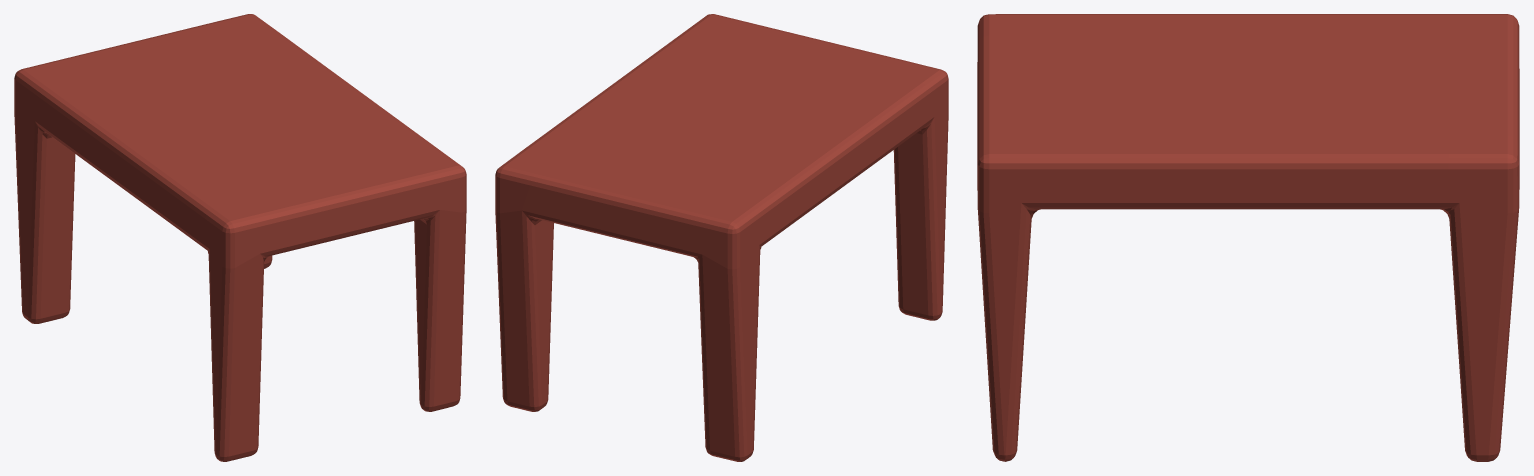
The model's file is CofeTable.fbx.
The picture shows the model from 3 angles, left to right: view 1: azimuth 30°, elevation 25°; view 2: azimuth 150°, elevation 25°; view 3: azimuth 270°, elevation 25°; orthographic projection. The views are drawn at different scales.
Visible parts, largest first — view 1: Cube.007; view 2: Cube.007; view 3: Cube.007.
Part boxes in pixels (box(x1,y1,x2,y2)): Cube.007: box(14, 14, 466, 461); Cube.007: box(495, 14, 948, 461); Cube.007: box(977, 14, 1519, 461).
Size of the model in its own units: 48.27 by 46.46 by 74.37.
